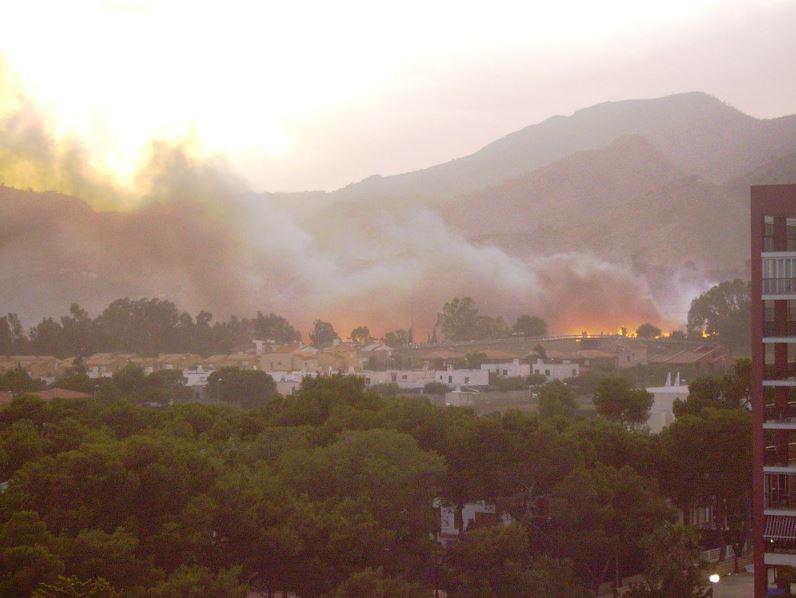fire: (577, 326, 638, 338), (658, 325, 670, 339)
